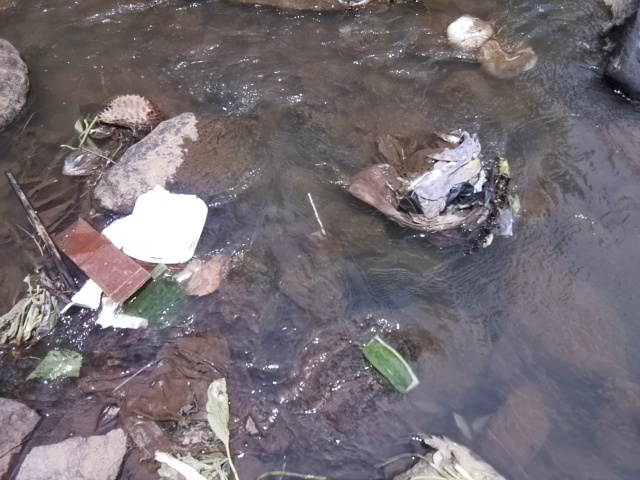Sampah_Plastik: (338, 127, 525, 243)
Sampah_Styrofoam: (92, 183, 215, 268)
